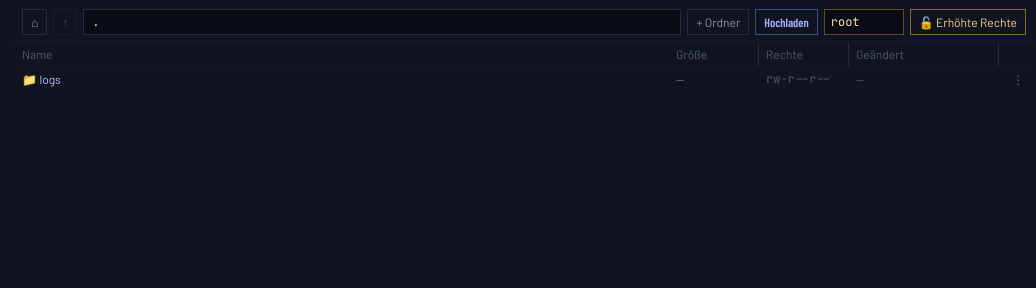
Scenario: FileBrowserPanel context menu + read-only actions (Spec 0054, Teil 1+2) › hides content-copy for directories (Löschen/Herunterladen work for both, Spec 0054 Teil 3)
Right-click the text "📁 logs — rw-r--r-- — ⋮" at (524, 79), box 14,66 -> 1034,91
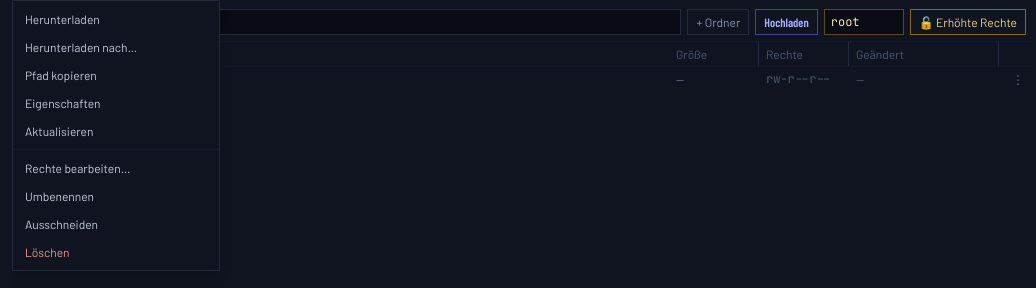
Check: the button "Löschen" is shown, box 13,238 -> 219,266
Check: the button "Herunterladen" is shown, box 13,5 -> 219,33
